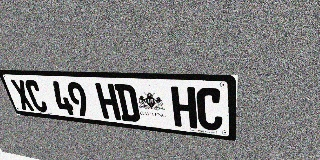4: (49, 81, 75, 115)
9: (65, 82, 92, 117)
C: (196, 87, 223, 131), (23, 80, 49, 113)
D: (114, 84, 141, 122)
H: (171, 86, 197, 129), (95, 83, 121, 120)
X: (10, 79, 35, 111)
